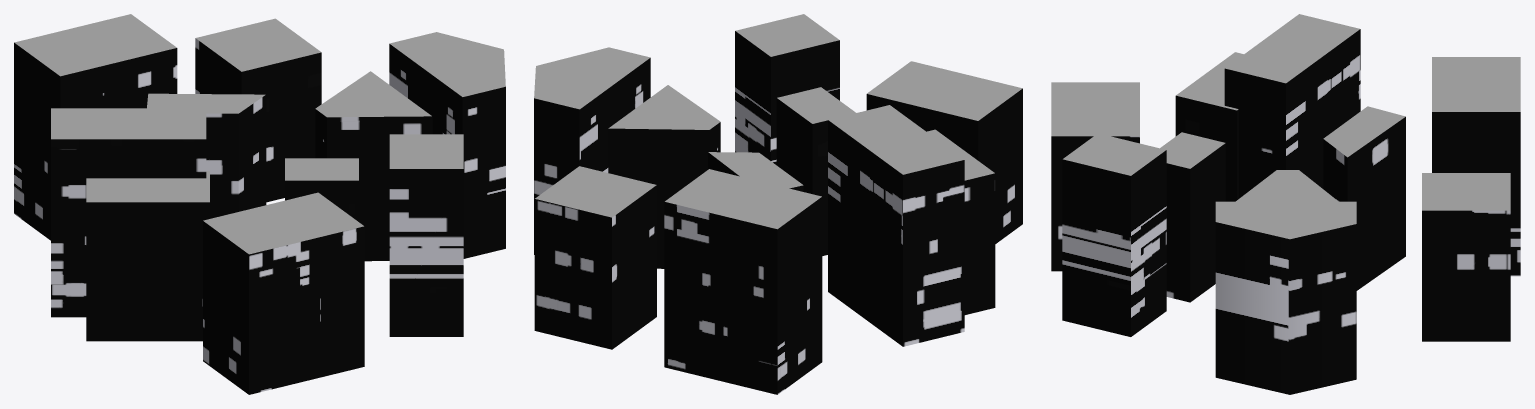
File: Downtown09.fbx
3 views of the same model, side by side, from view 1: azimuth 30°, elevation 25°; view 2: azimuth 150°, elevation 25°; view 3: azimuth 270°, elevation 25° (orthographic). The views are drawn at different scales.
Parts seen in each view (by area): view 1: Downtown09; view 2: Downtown09; view 3: Downtown09.
Part boxes in pixels (x1=…): Downtown09: x1=14, y1=14, x2=505, y2=394; Downtown09: x1=534, y1=14, x2=1022, y2=394; Downtown09: x1=1051, y1=14, x2=1520, y2=394.
Size of the model in its own units: 1.63 by 0.6189 by 1.54.
Materials: 2 (1 with a texture image).
